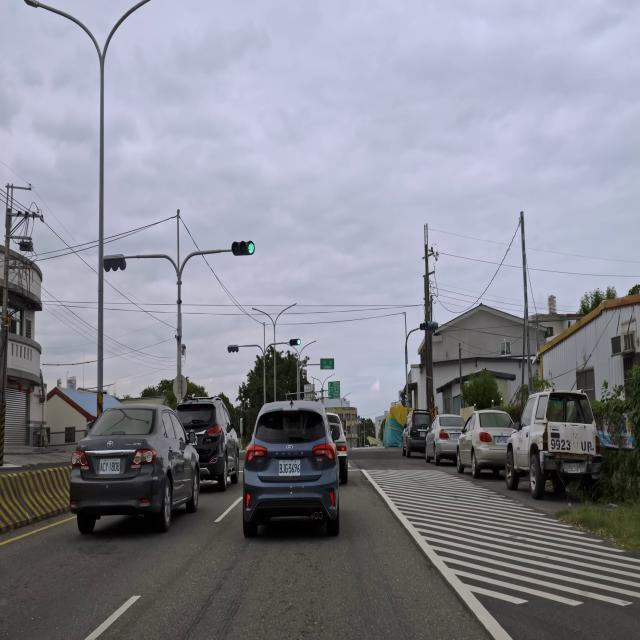green light: (231, 241, 255, 256), (289, 338, 301, 346)
